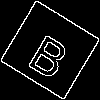B: (25, 25, 77, 82)
